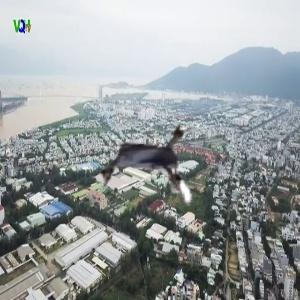drone: (84, 104, 215, 235)
